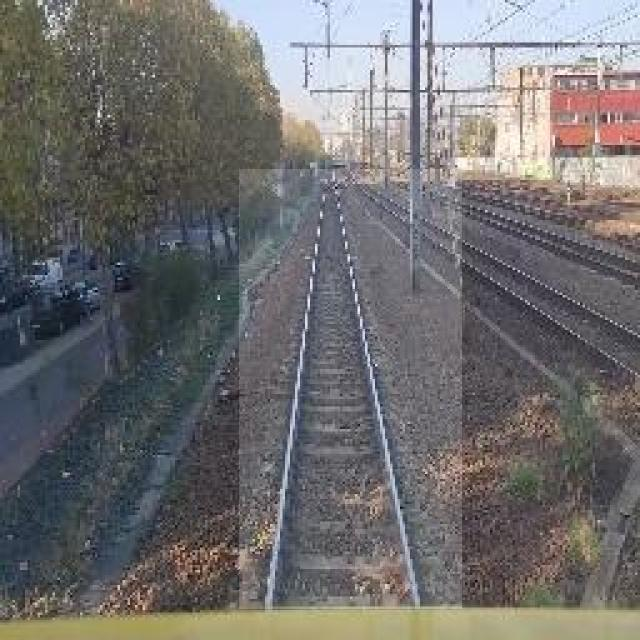rail: (241, 171, 463, 610)
